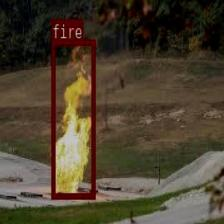fire: (51, 38, 94, 198)
